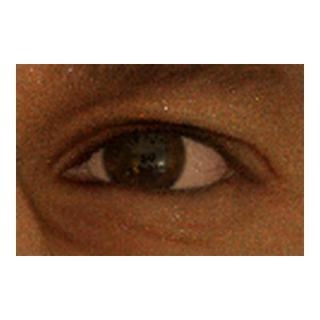pupil: (127, 139, 161, 173)
